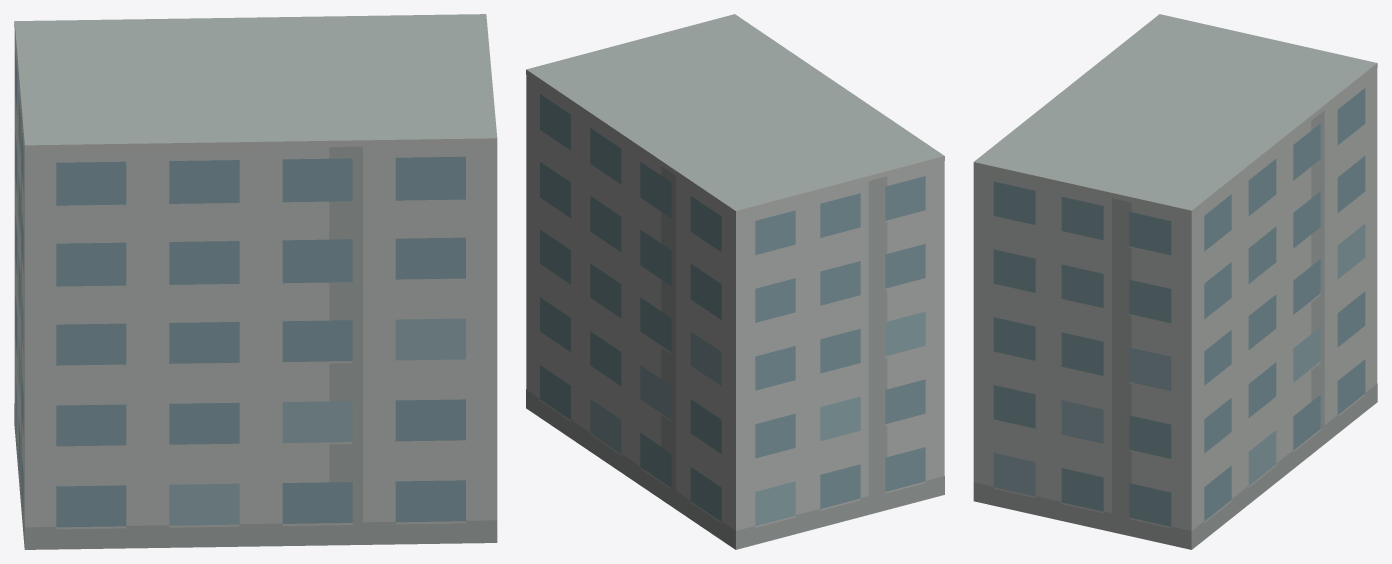
File: survey-upis-32891616.glb
3 renders of one model, left to right at view 1: azimuth 30°, elevation 25°; view 2: azimuth 150°, elevation 25°; view 3: azimuth 270°, elevation 25°, orthographic. The views are drawn at different scales.
Visible parts, largest first — view 1: survey-upis-32891616.tmp; view 2: survey-upis-32891616.tmp; view 3: survey-upis-32891616.tmp.
Boxes of the visible parts, bbox=[...] form: survey-upis-32891616.tmp: bbox=[14, 14, 497, 549]; survey-upis-32891616.tmp: bbox=[526, 14, 944, 549]; survey-upis-32891616.tmp: bbox=[973, 14, 1377, 549].
Bounding box in the file's own units: 19.78 × 15.9 × 17.16.
